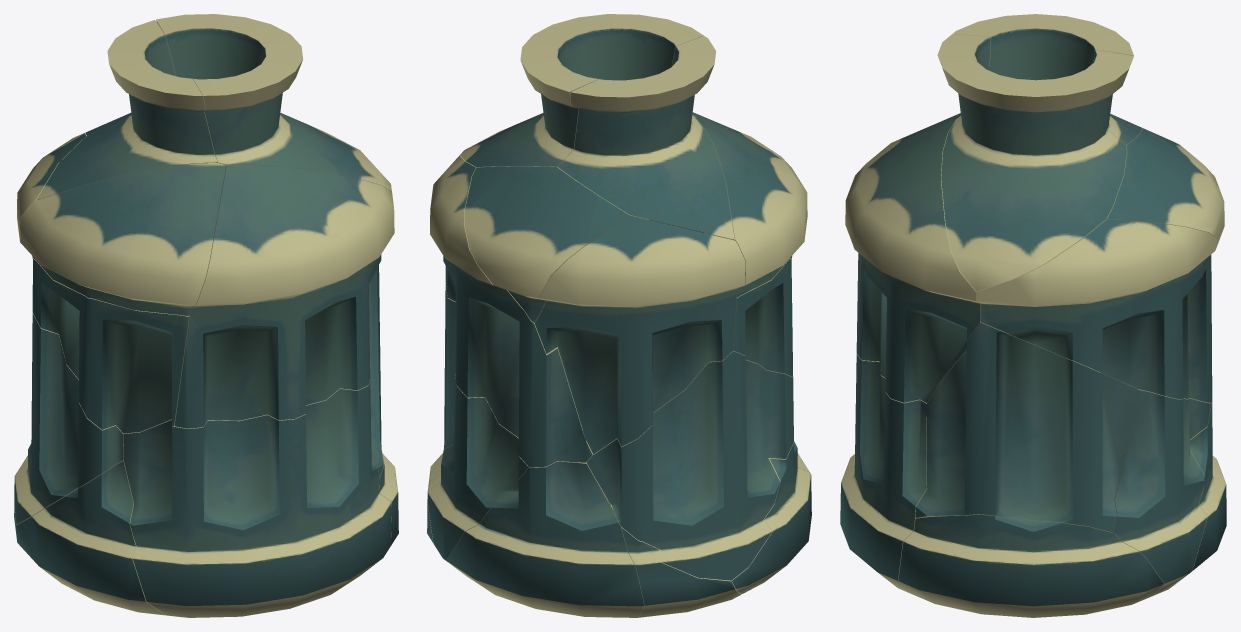
The model's file is POT_Mimic_Magic.fbx.
3 views of the same model, side by side, from view 1: azimuth 30°, elevation 25°; view 2: azimuth 150°, elevation 25°; view 3: azimuth 270°, elevation 25° (orthographic).
Parts seen in each view (by area): view 1: POT_Green_cell.014, POT_Green_cell.008, POT_Green_cell.003, POT_Green_cell.001, POT_Green_cell, POT_Green_cell.010, POT_Green_cell.005, POT_Green_cell.002, POT_Green_cell.016, POT_Green_cell.011, POT_Green_cell.013; view 2: POT_Green_cell.011, POT_Green_cell.002, POT_Green_cell.010, POT_Green_cell.006, POT_Green_cell.015, POT_Green_cell.001, POT_Green_cell.004, POT_Green_cell.003, POT_Green_cell.009, POT_Green_cell.005, POT_Green_cell, POT_Green_cell.007 (+1 smaller); view 3: POT_Green_cell.001, POT_Green_cell.016, POT_Green_cell.015, POT_Green_cell.008, POT_Green_cell.013, POT_Green_cell.009, POT_Green_cell.014, POT_Green_cell.010, POT_Green_cell.004, POT_Green_cell.006.
Part boxes in pixels (x1,y1,x2,y2): POT_Green_cell.014: (123, 379, 391, 617); POT_Green_cell.008: (174, 165, 394, 428); POT_Green_cell.003: (20, 163, 225, 315); POT_Green_cell.001: (156, 14, 391, 191); POT_Green_cell: (32, 258, 188, 433); POT_Green_cell.010: (36, 20, 217, 200); POT_Green_cell.005: (16, 460, 165, 615); POT_Green_cell.002: (14, 313, 123, 524); POT_Green_cell.016: (368, 265, 383, 478); POT_Green_cell.011: (17, 133, 86, 258); POT_Green_cell.013: (379, 428, 398, 545); POT_Green_cell.011: (534, 216, 745, 454); POT_Green_cell.002: (586, 351, 793, 580); POT_Green_cell.010: (557, 35, 734, 239); POT_Green_cell.006: (446, 461, 644, 617); POT_Green_cell.015: (430, 155, 592, 467); POT_Green_cell.001: (460, 14, 703, 167); POT_Green_cell.004: (464, 166, 648, 322); POT_Green_cell.003: (692, 112, 807, 297); POT_Green_cell.009: (427, 373, 528, 561); POT_Green_cell.005: (731, 442, 811, 593); POT_Green_cell: (733, 256, 792, 377); POT_Green_cell.007: (607, 499, 741, 617); POT_Green_cell.001: (937, 34, 1133, 291); POT_Green_cell.016: (915, 322, 1138, 532); POT_Green_cell.015: (976, 219, 1218, 402); POT_Green_cell.008: (845, 122, 985, 402); POT_Green_cell.013: (898, 514, 1163, 617); POT_Green_cell.009: (1113, 389, 1211, 594); POT_Green_cell.014: (840, 354, 927, 594); POT_Green_cell.010: (953, 14, 1142, 144); POT_Green_cell.004: (1106, 128, 1224, 255); POT_Green_cell.006: (1158, 402, 1226, 593).
Bounding box in the file's own units: 213 × 301 × 213.
Materials: 1 (1 with a texture image).
